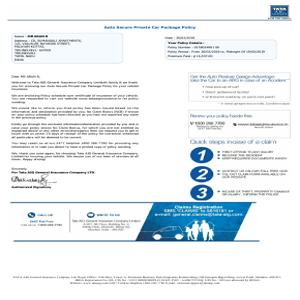text: (6, 73, 143, 164), (190, 74, 288, 100), (13, 34, 86, 62), (166, 40, 266, 59), (221, 147, 288, 162), (220, 166, 289, 180), (221, 187, 291, 199)
